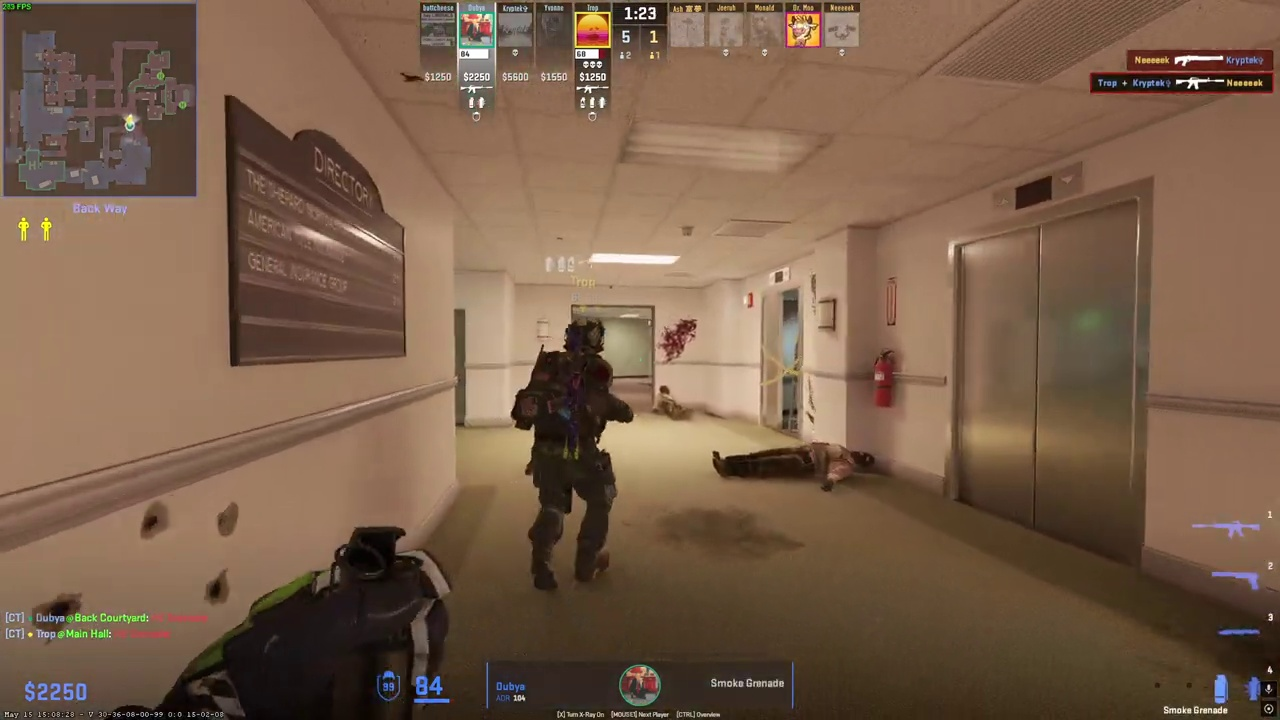CT: (518, 317, 625, 593)
